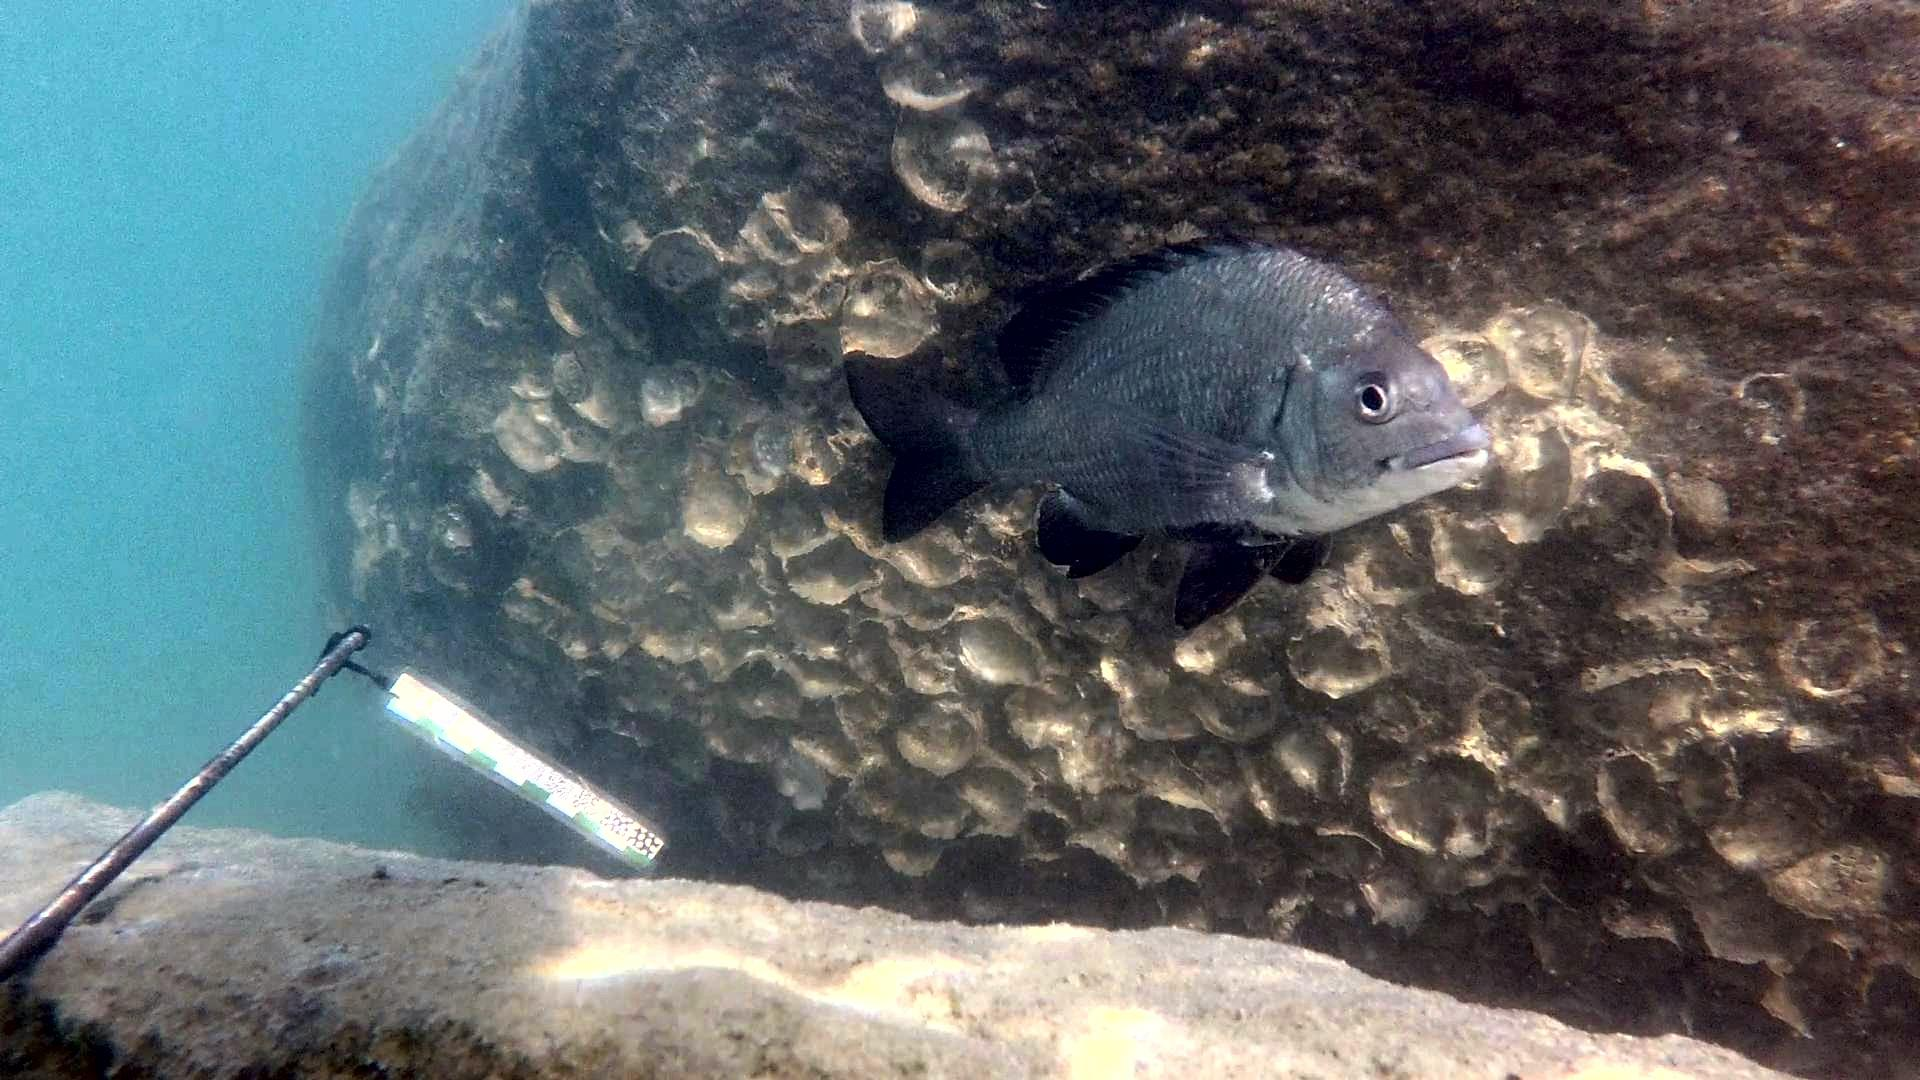acanthopagrus palmaris: (833, 216, 1499, 641)
